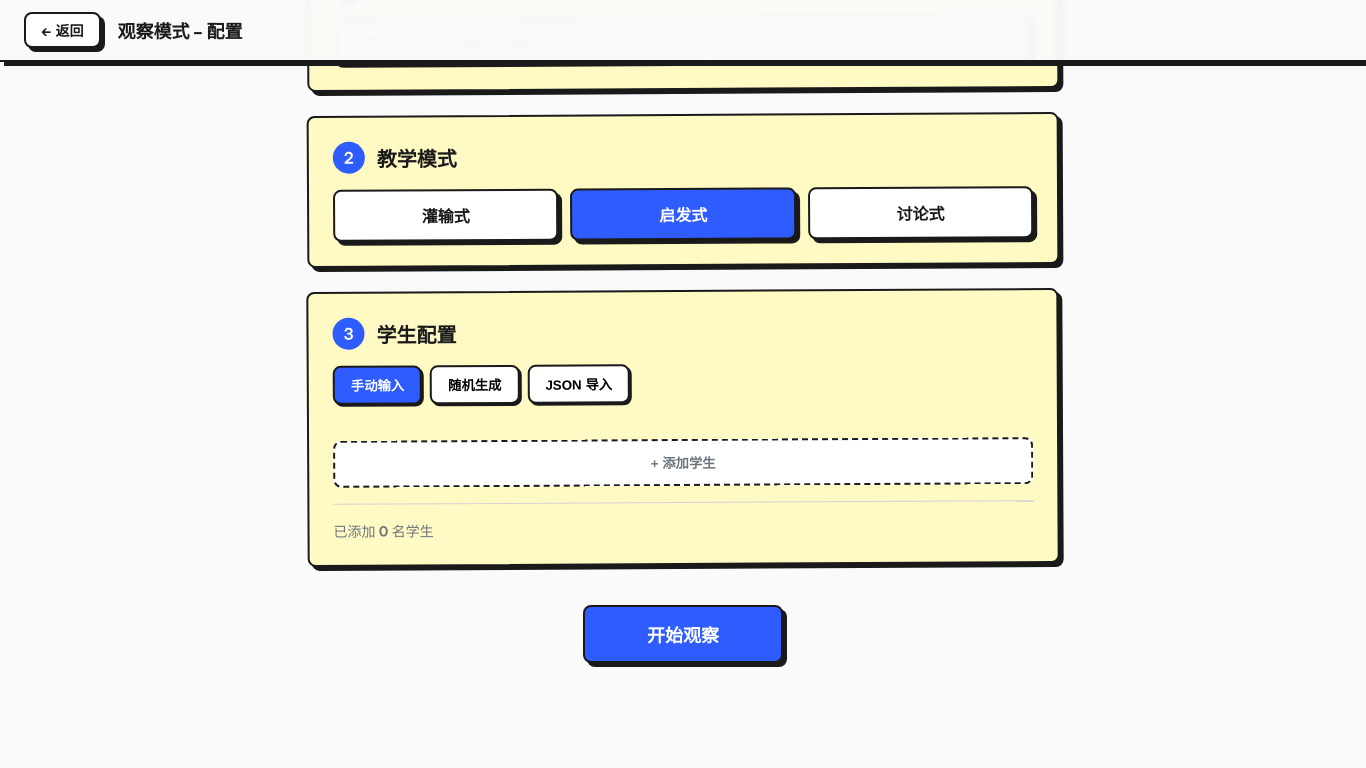
Test: ObservationConfig › Random student generation › switches to random mode when clicking tab
The width and height of the screenshot is (1366, 768).
(page scrolled)
Click the button "随机生成".
click(475, 385)  # box 430,365 -> 520,404
(page scrolled)
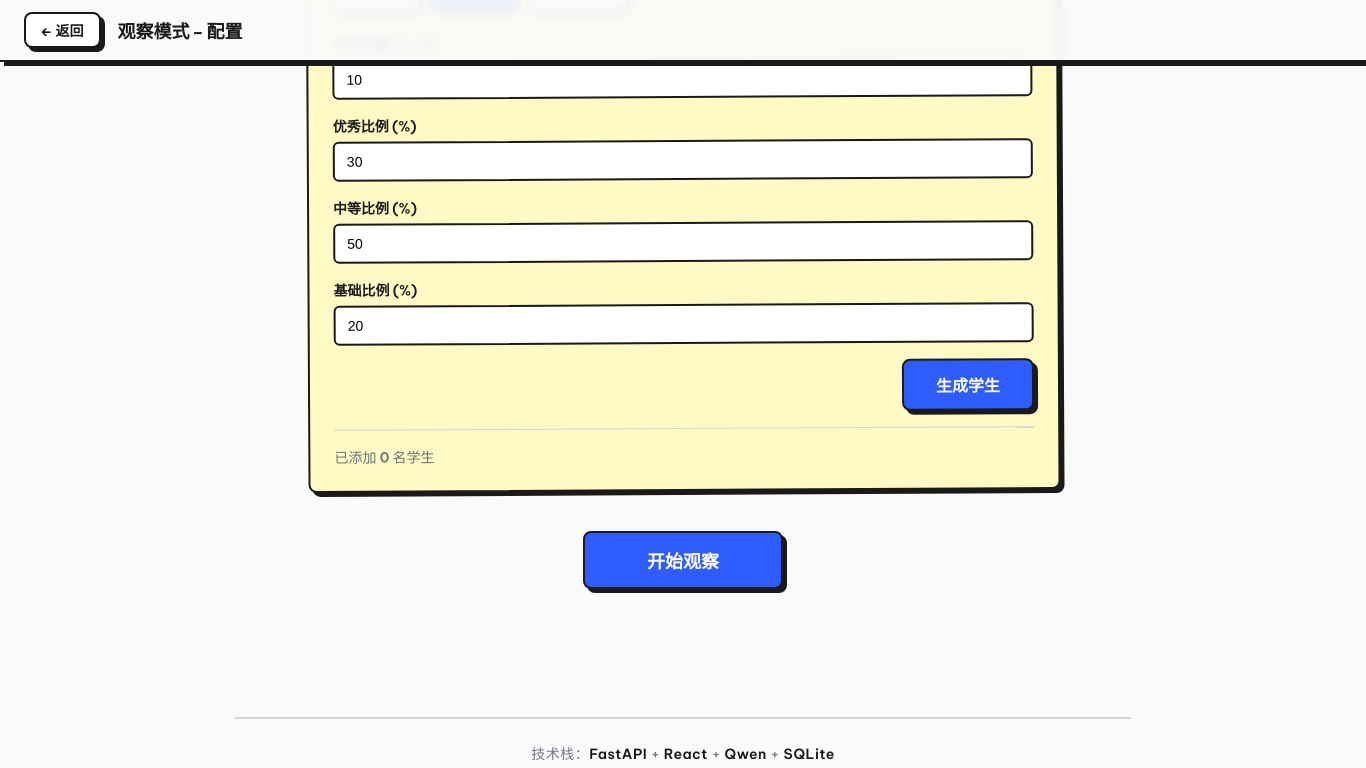
Expected: the number field labelled "学生数量 (2-50)" is shown, 332,56 -> 1032,100
Expected: the number field labelled "优秀比例 (%)" is shown, 333,138 -> 1033,182
Expected: the number field labelled "中等比例 (%)" is shown, 333,220 -> 1033,264
